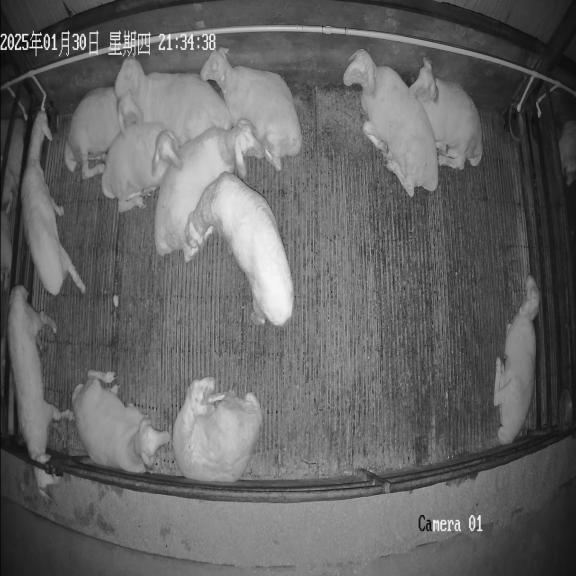drinking: (21, 110, 85, 295)
eating: (7, 285, 73, 496)
lying: (154, 120, 264, 262), (343, 50, 438, 197), (201, 48, 303, 171), (72, 371, 170, 473), (115, 58, 232, 143), (172, 377, 262, 482), (409, 58, 483, 170), (493, 275, 539, 444), (64, 87, 143, 179), (101, 123, 180, 212)
stand: (183, 172, 293, 325)
